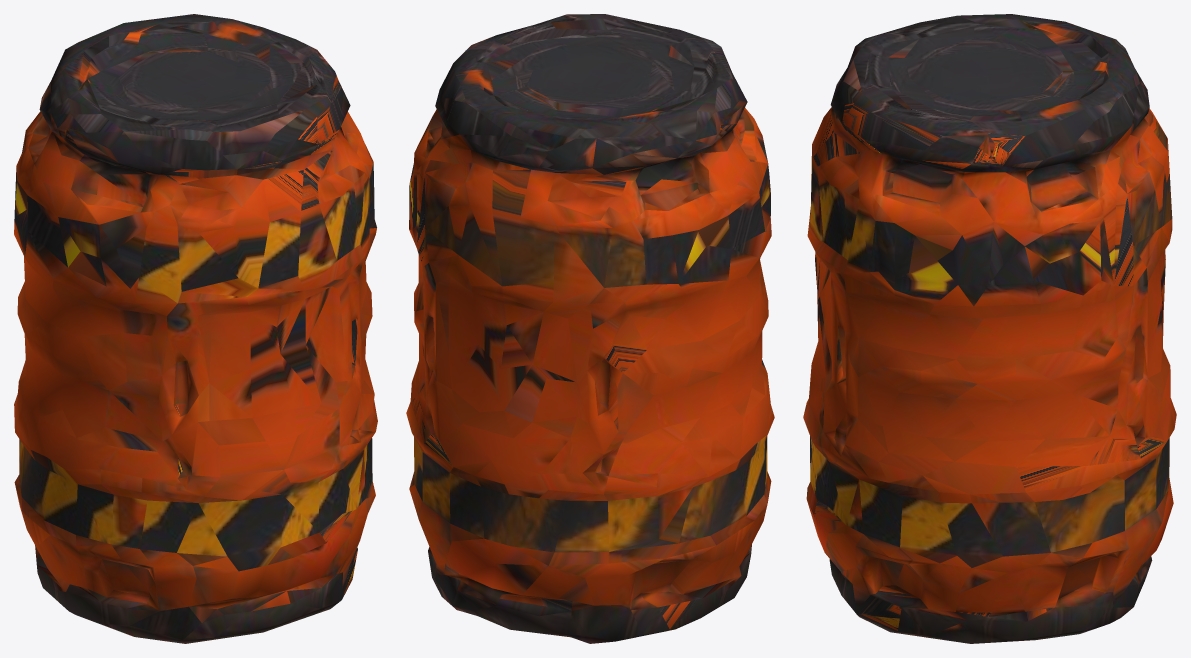
File: barrel.glb
3 views of the same model, side by side, from view 1: azimuth 30°, elevation 25°; view 2: azimuth 150°, elevation 25°; view 3: azimuth 270°, elevation 25° (orthographic).
Visible parts, largest first — view 1: piece0; view 2: piece0; view 3: piece0.
Boxes of the visible parts, <box> form: piece0: <box>14,14,377,643</box>; piece0: <box>406,14,774,643</box>; piece0: <box>803,14,1176,643</box>.
Size of the model in its own units: 0.6427 by 1 by 0.6541.
Materials: 1 (1 with a texture image).
